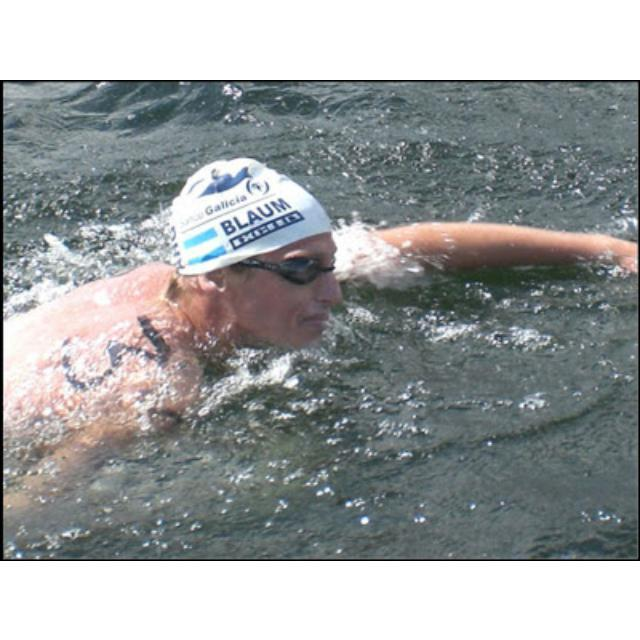human: (1, 155, 639, 487)
